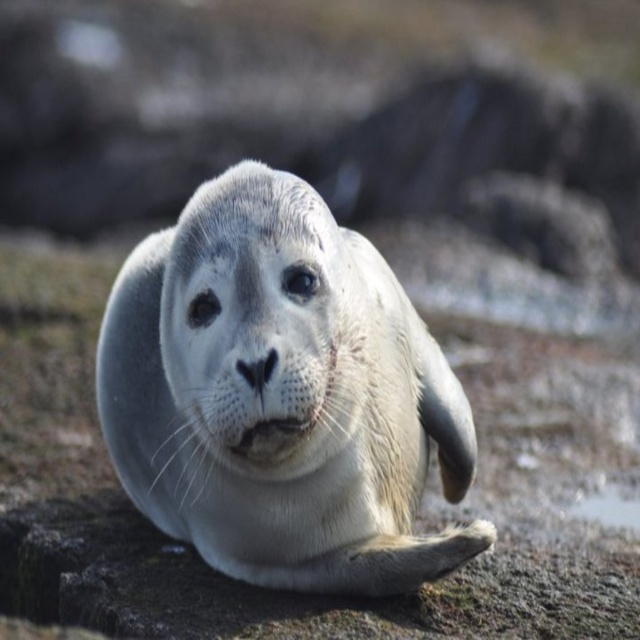Harbor seal: (94, 159, 504, 603)
